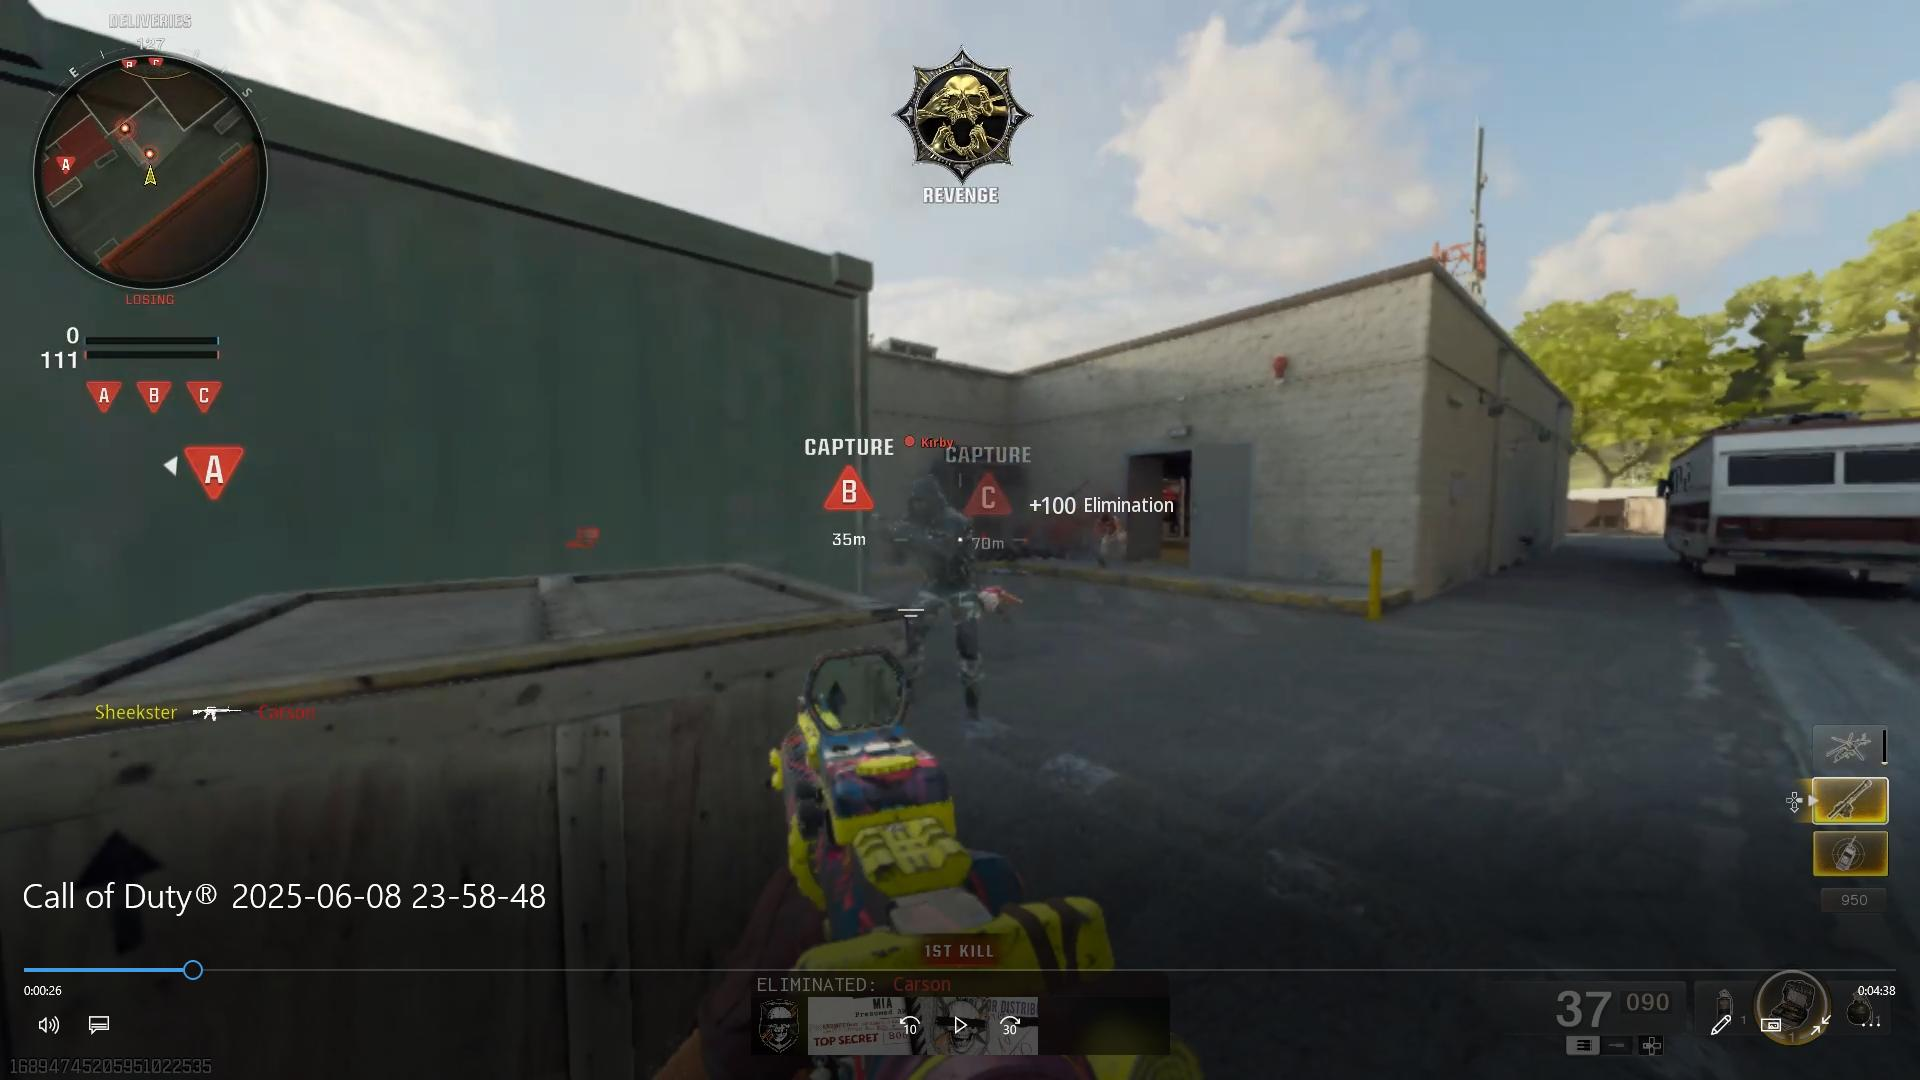Enemy: (890, 476, 988, 702)
